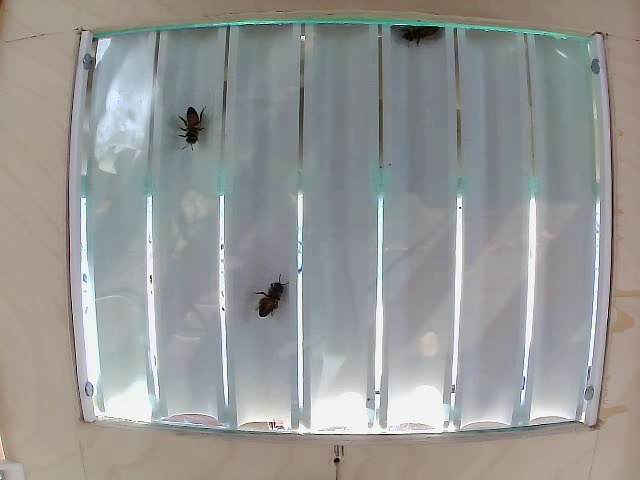bee: (174, 105, 210, 176), (252, 281, 281, 314)
